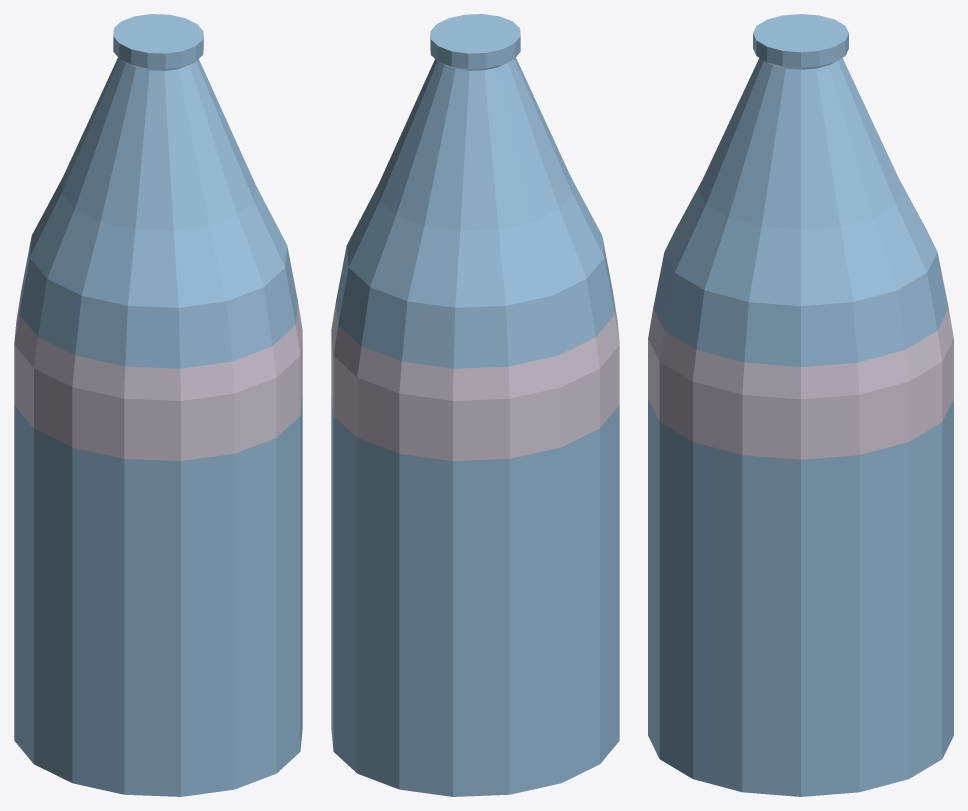
The model's file is Bottle 1.fbx.
The picture shows the model from 3 angles, left to right: view 1: azimuth 30°, elevation 25°; view 2: azimuth 150°, elevation 25°; view 3: azimuth 270°, elevation 25°; orthographic projection.
Parts seen in each view (by area): view 1: Cylinder; view 2: Cylinder; view 3: Cylinder.
Part boxes in pixels (left/top/right/bottom): Cylinder: left=14, top=14, right=302, bottom=796; Cylinder: left=331, top=14, right=619, bottom=796; Cylinder: left=648, top=14, right=953, bottom=796.
Size of the model in its own units: 354 by 334 by 896.
